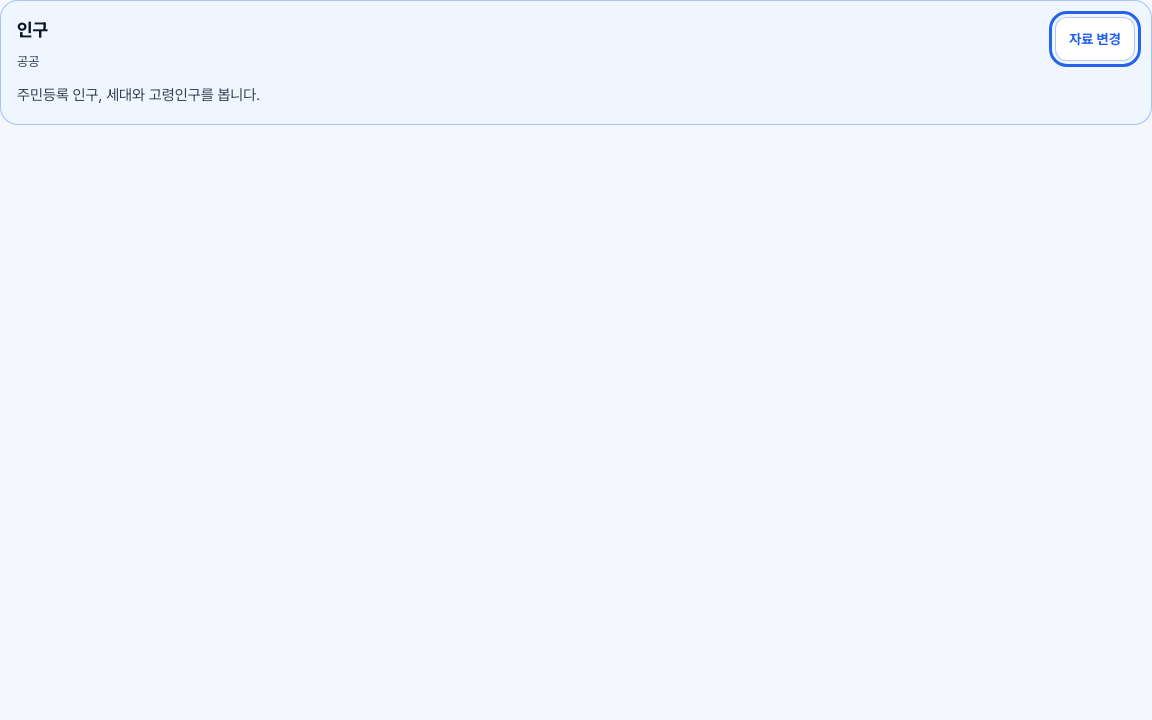
목적별 자료 선택 › 자료 선택은 정확히 한 번 실행하고 닫힌 뒤 변경 버튼으로 포커스를 돌린다
This screenshot has width=1152, height=720.
Click the button "자료 변경": (1095, 39) [1055, 17, 1135, 61]
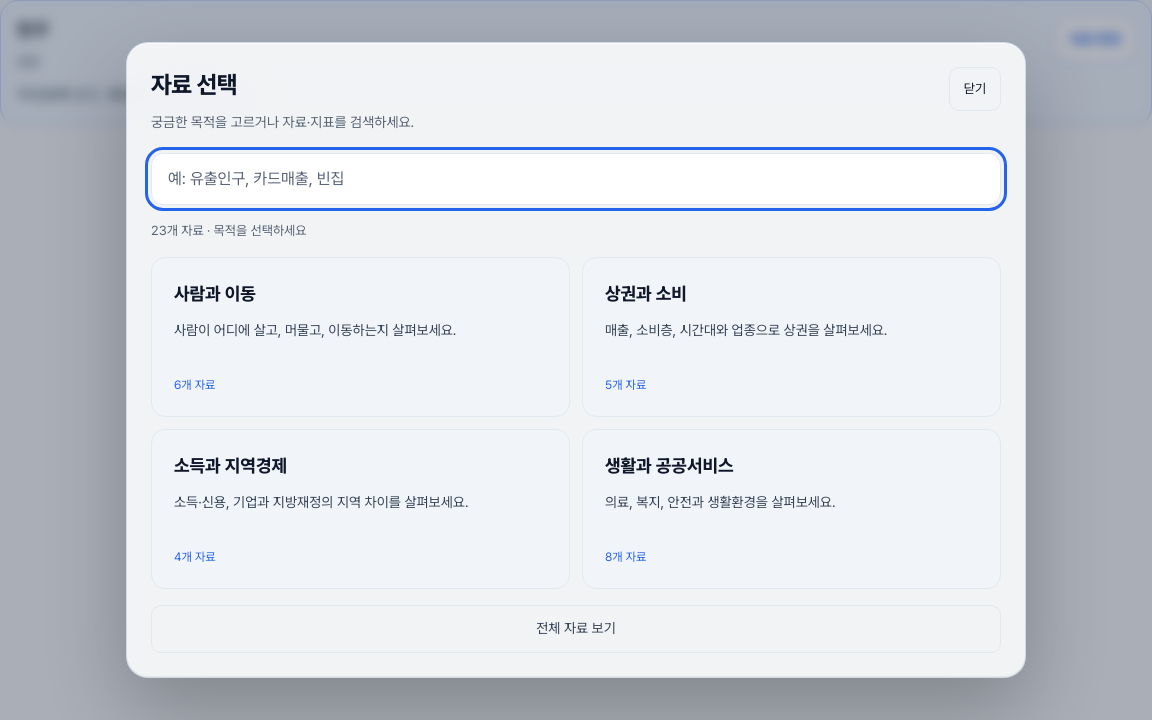
In the search field named "자료 검색": (576, 179) [151, 153, 1001, 205], type "유출"
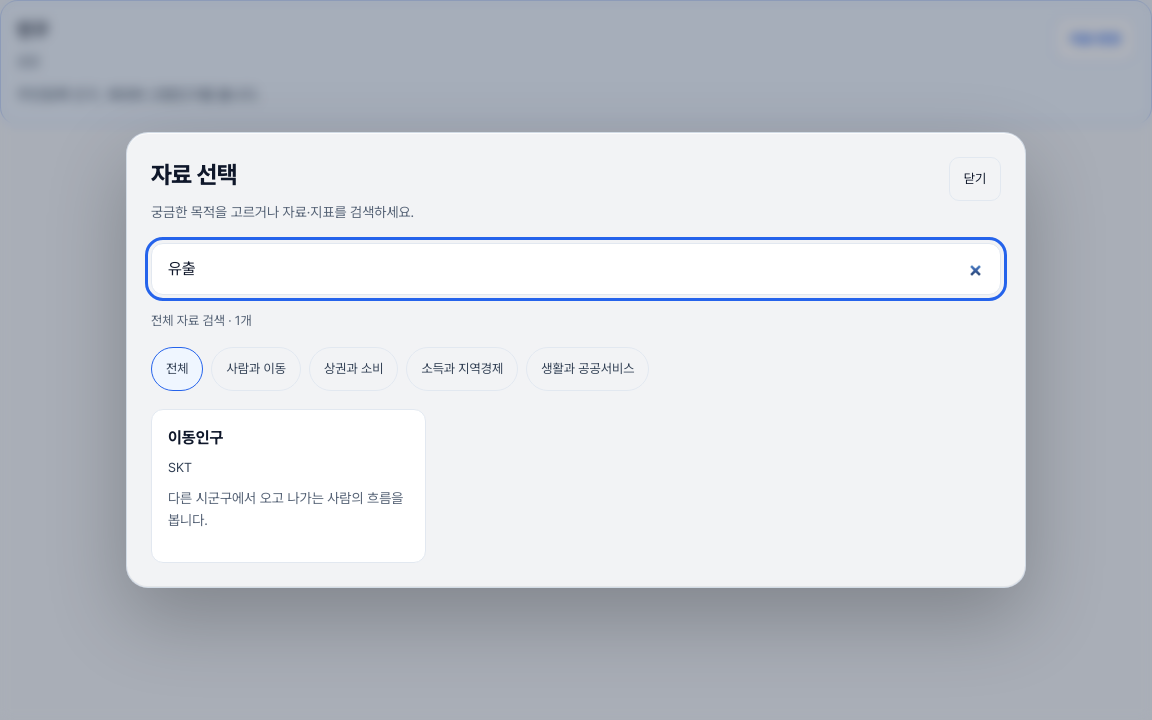
Click the button "이동인구 SKT 다른 시군구에서 오고 나가는 사람의 흐름을 봅니다.": (196, 437) [151, 409, 426, 563]
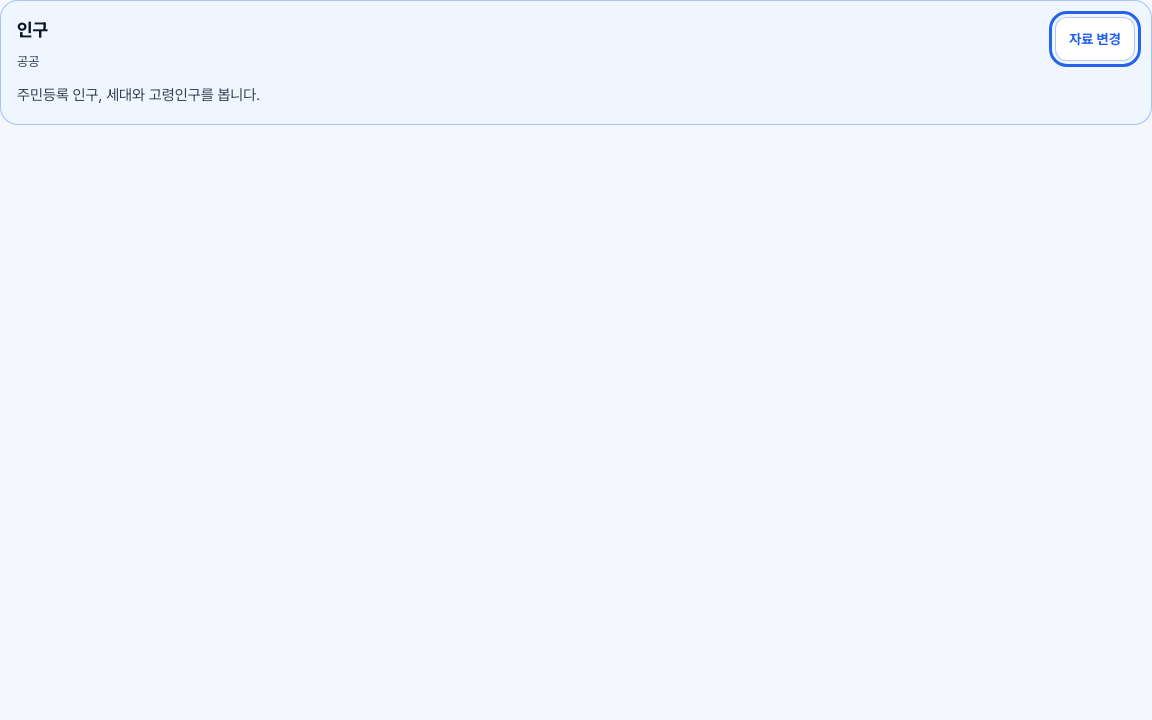
Now the dialog is gone
